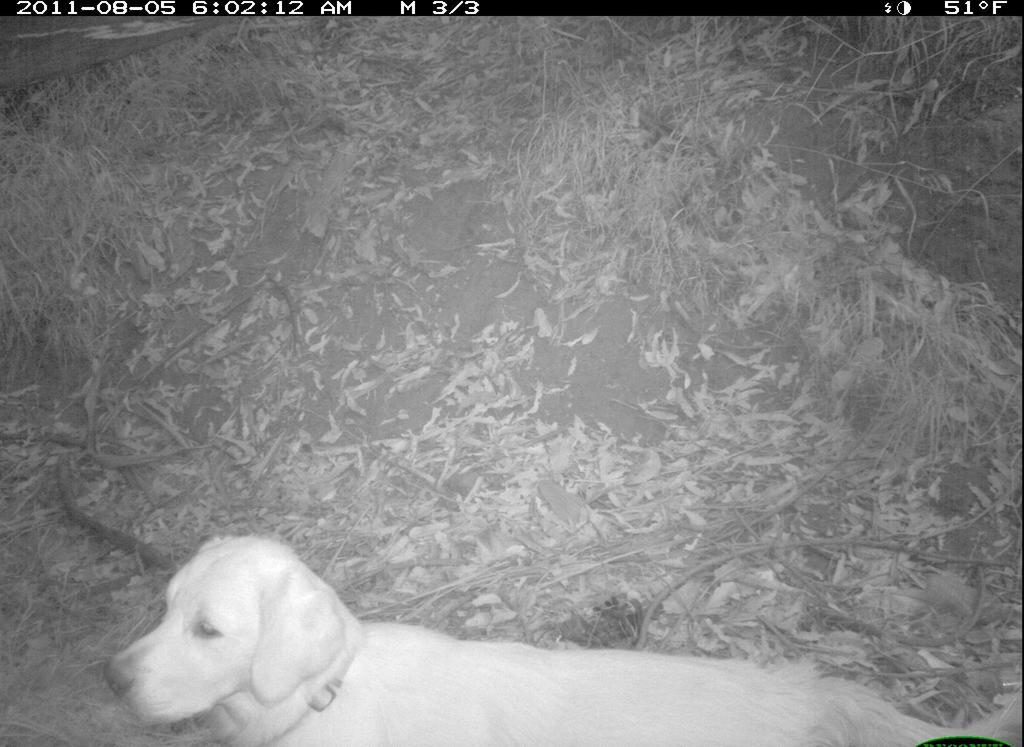dog: (98, 539, 1016, 740)
